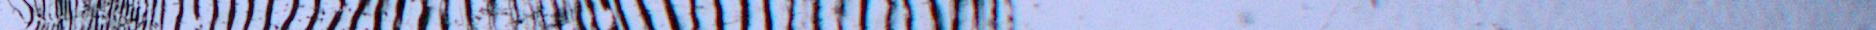circulus: (325, 1, 348, 30), (279, 1, 300, 30), (348, 1, 368, 30), (636, 1, 656, 30), (304, 1, 322, 30), (601, 1, 619, 30), (663, 1, 681, 30), (614, 1, 631, 30), (584, 1, 599, 30), (240, 1, 255, 30), (261, 1, 275, 30), (371, 1, 385, 30), (928, 1, 943, 30), (22, 1, 35, 30), (392, 1, 406, 30), (418, 1, 431, 30), (524, 1, 537, 30), (574, 1, 587, 30), (689, 1, 702, 30), (834, 1, 847, 30), (173, 1, 185, 30), (191, 1, 203, 30), (208, 1, 220, 30), (486, 1, 498, 30), (508, 1, 520, 30), (552, 1, 564, 30), (713, 1, 725, 30), (738, 1, 750, 30), (762, 1, 774, 30), (884, 1, 896, 30), (902, 1, 914, 30), (951, 1, 963, 30), (1004, 1, 1016, 30), (226, 1, 237, 30), (439, 1, 450, 30), (464, 1, 475, 30), (811, 1, 822, 30), (988, 1, 999, 30), (80, 1, 90, 30), (140, 1, 150, 30), (148, 1, 158, 30), (537, 1, 547, 30), (561, 1, 571, 30), (786, 1, 796, 30), (859, 1, 869, 30), (33, 1, 42, 30), (86, 1, 95, 30), (105, 1, 114, 30), (116, 1, 124, 30), (127, 1, 135, 30), (133, 1, 141, 30), (159, 1, 167, 30), (971, 1, 980, 30), (41, 1, 48, 30), (54, 1, 61, 30), (57, 1, 65, 30), (67, 1, 74, 30), (72, 1, 79, 30), (95, 1, 102, 30), (123, 1, 130, 30)
